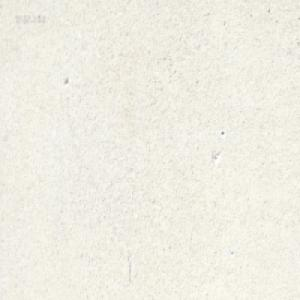Wrench: (118, 0, 124, 4)
